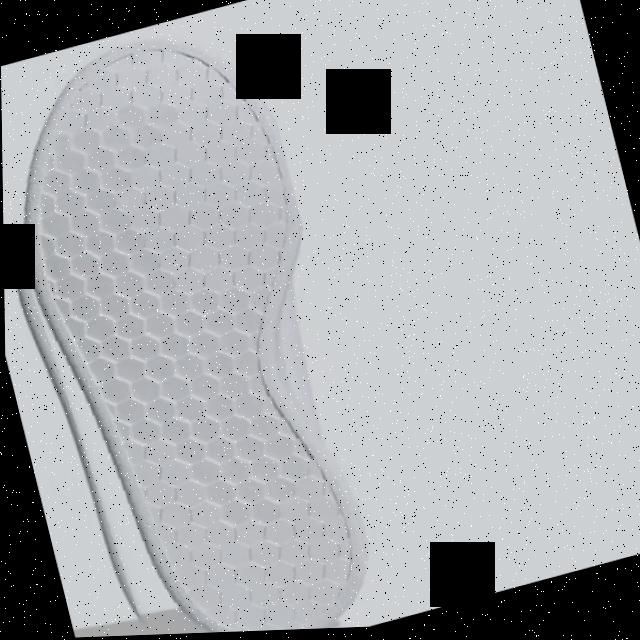shoe: (0, 3, 396, 640)
